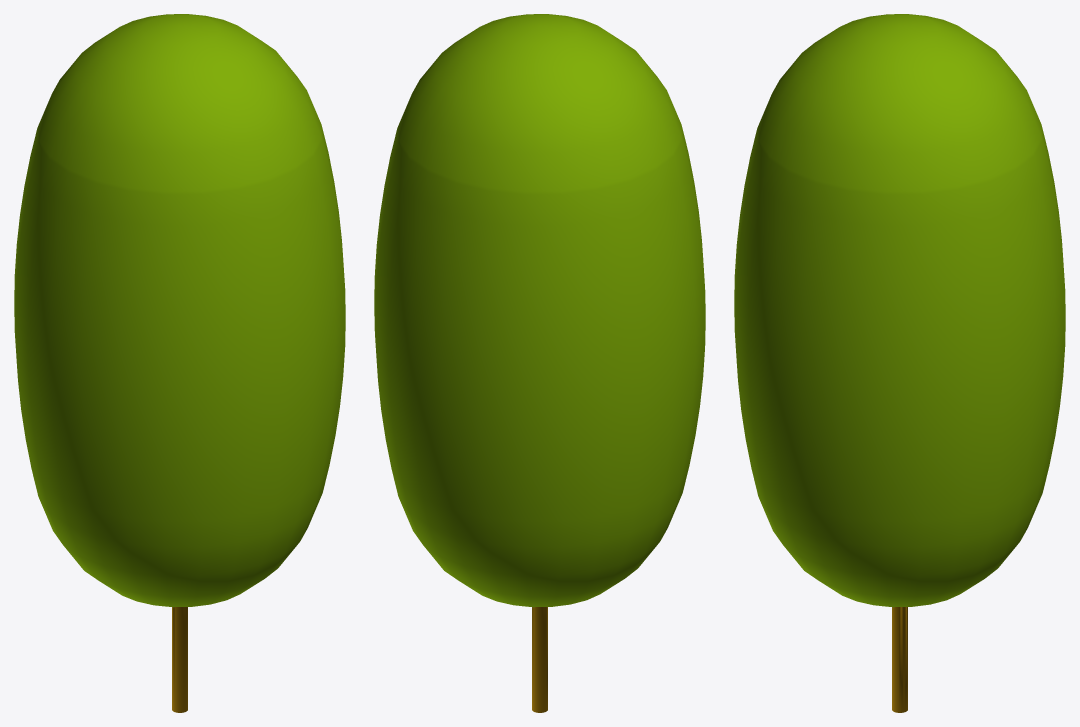
Rendered from LPo21m.glb.
3 views of the same model, side by side, from view 1: azimuth 30°, elevation 25°; view 2: azimuth 150°, elevation 25°; view 3: azimuth 270°, elevation 25° (orthographic).
Visible parts, largest first — view 1: LPo21m; view 2: LPo21m; view 3: LPo21m.
Part boxes in pixels (x1=…): LPo21m: x1=14, y1=14, x2=345, y2=712; LPo21m: x1=374, y1=14, x2=705, y2=712; LPo21m: x1=734, y1=14, x2=1065, y2=712.
Size of the model in its own units: 9.23 by 21 by 9.23.
